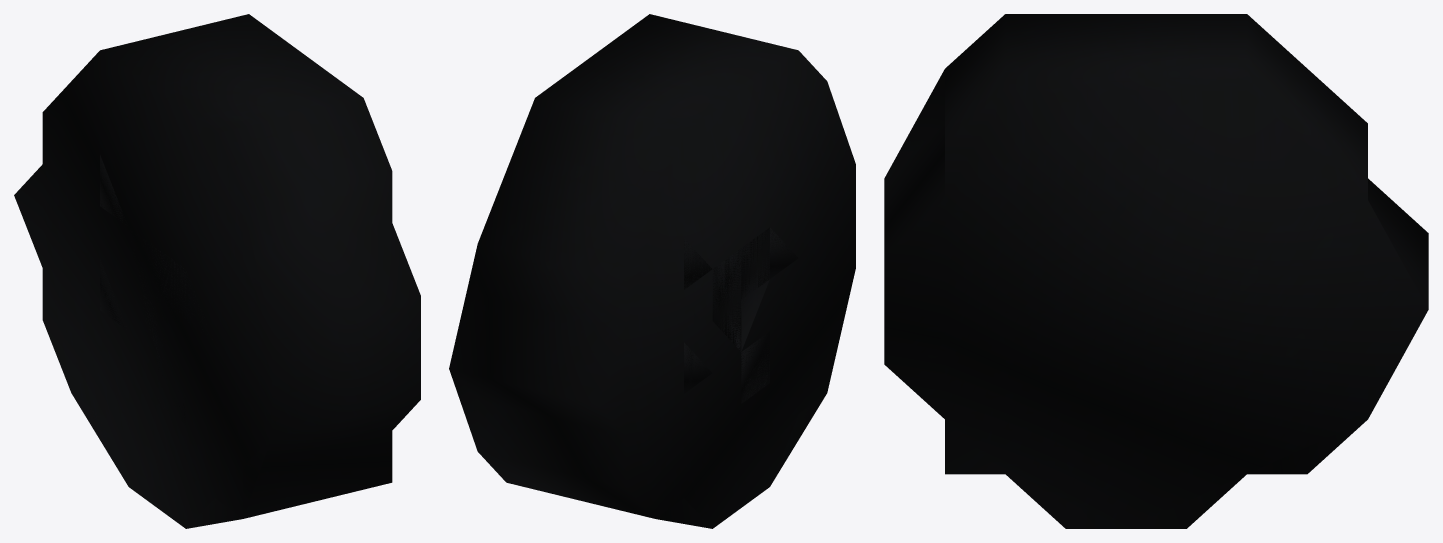
3 views of the same model, side by side, from view 1: azimuth 30°, elevation 25°; view 2: azimuth 150°, elevation 25°; view 3: azimuth 270°, elevation 25° (orthographic). The views are drawn at different scales.
Bounding box in the file's own units: 0.24 × 0.64 × 0.72.
1 material, 1 textured.
